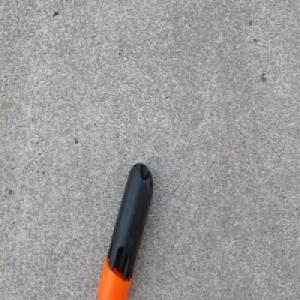PlasticPart: (95, 160, 155, 300)
